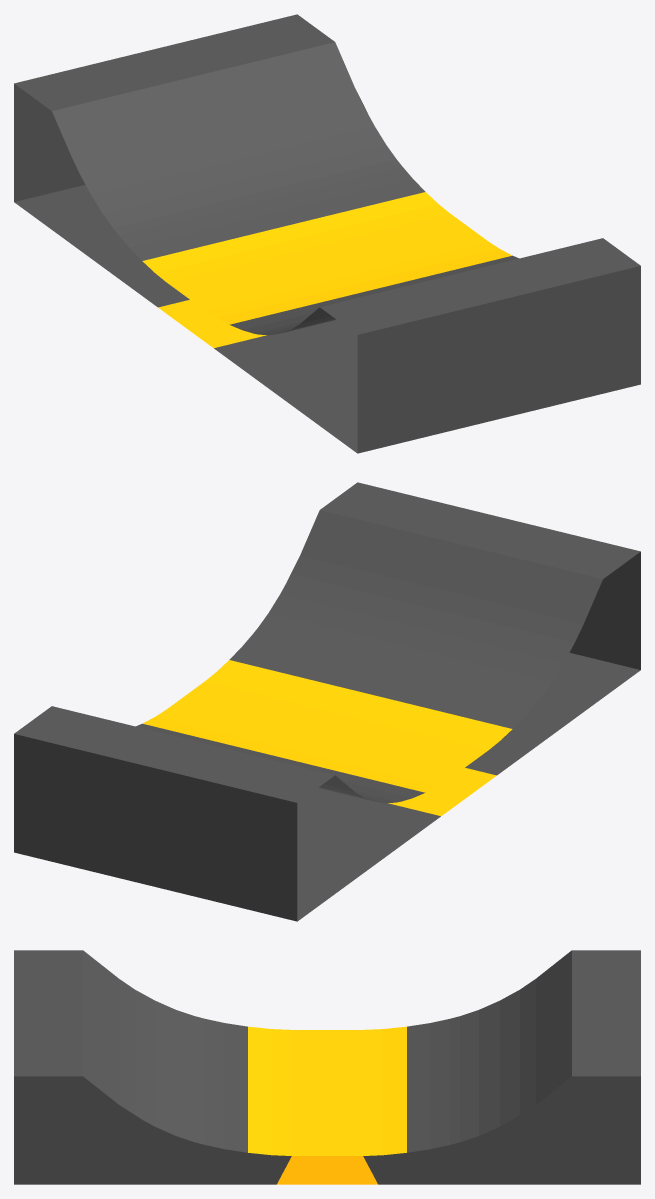
File: Spline_Slip_Halfpipe_4.fbx
The picture shows the model from 3 angles, top to bottom: view 1: azimuth 30°, elevation 25°; view 2: azimuth 150°, elevation 25°; view 3: azimuth 270°, elevation 25°; orthographic projection. The views are drawn at different scales.
Visible parts, largest first — view 1: Spline_Slip_Halfpipe 4; view 2: Spline_Slip_Halfpipe 4; view 3: Spline_Slip_Halfpipe 4.
Boxes of the visible parts, box(x1,y1,x2,y2) form: Spline_Slip_Halfpipe 4: box(14, 14, 640, 453); Spline_Slip_Halfpipe 4: box(14, 482, 640, 921); Spline_Slip_Halfpipe 4: box(14, 950, 640, 1184).
Size of the model in its own units: 1000 by 400 by 2100.
